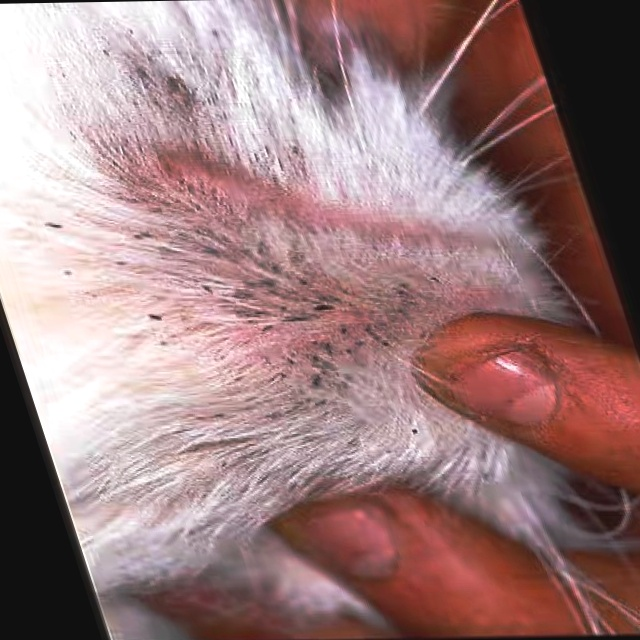acne: (35, 209, 484, 355)
